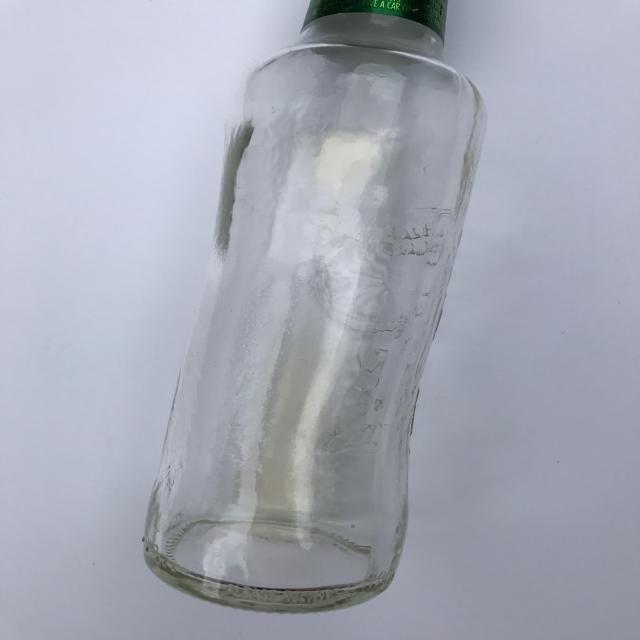Glass: (119, 0, 466, 618)
